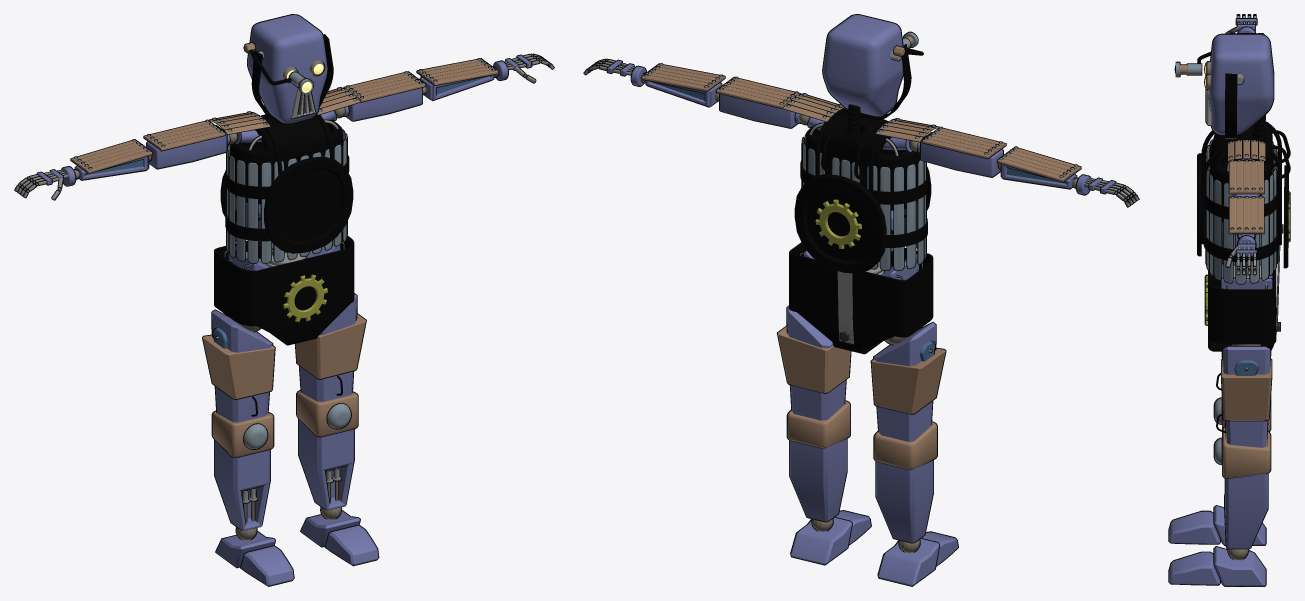
File: Robot5L.fbx
The picture shows the model from 3 angles, left to right: view 1: azimuth 30°, elevation 25°; view 2: azimuth 150°, elevation 25°; view 3: azimuth 270°, elevation 25°; orthographic projection. The views are drawn at different scales.
Parts seen in each view (by area): view 1: Cube; view 2: Cube; view 3: Cube.
Boxes of the visible parts, x1,y1,x2,y2 form: Cube: [14, 14, 554, 586]; Cube: [583, 14, 1139, 586]; Cube: [1168, 14, 1290, 586].
Bounding box in the file's own units: 428 × 402 × 86.33.
